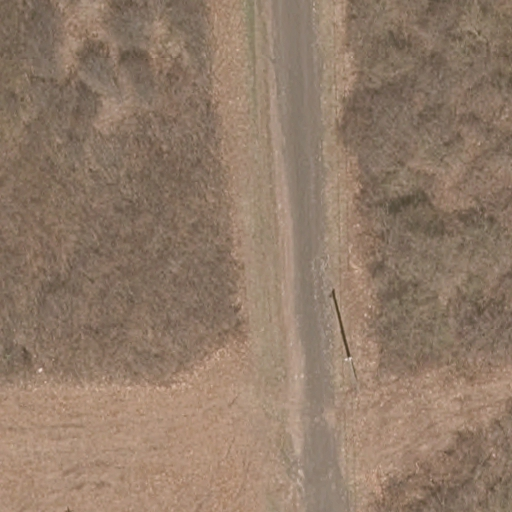DT: (344, 352, 360, 382)
